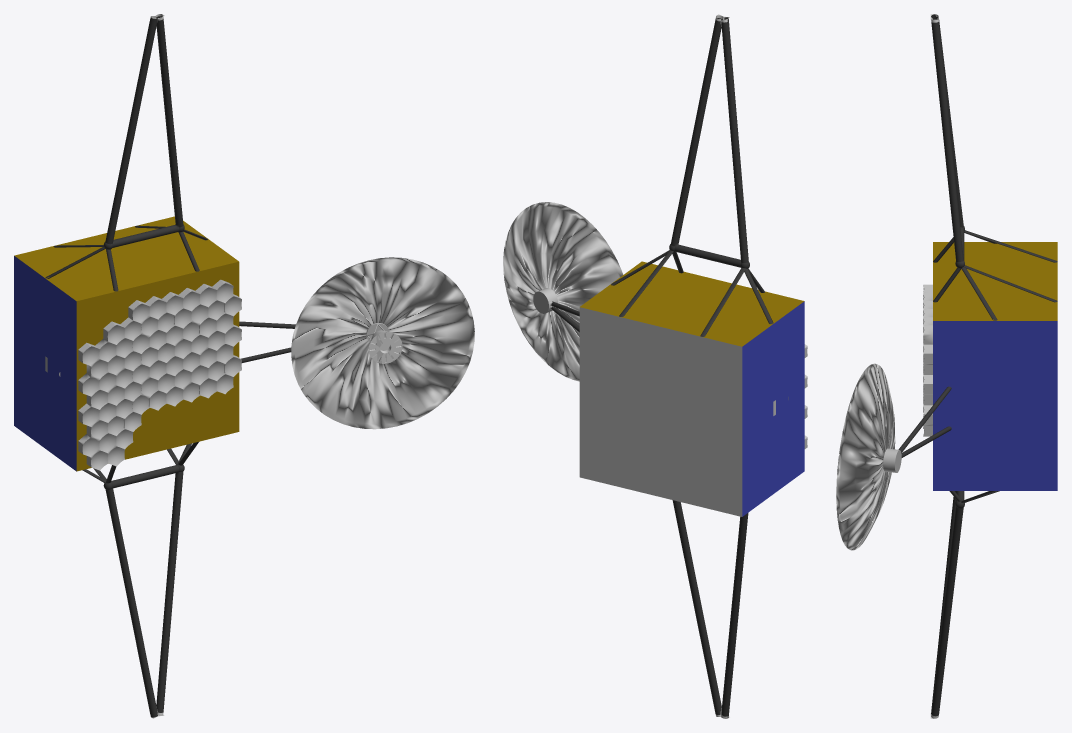
The model's file is Satelite_Cuerpo.obj.
The picture shows the model from 3 angles, left to right: view 1: azimuth 30°, elevation 25°; view 2: azimuth 150°, elevation 25°; view 3: azimuth 270°, elevation 25°; orthographic projection.
Visible parts, largest first — view 1: Satelite_Cuerpo.001; view 2: Satelite_Cuerpo.001; view 3: Satelite_Cuerpo.001.
Boxes of the visible parts, bbox=[...] form: Satelite_Cuerpo.001: bbox=[14, 14, 474, 718]; Satelite_Cuerpo.001: bbox=[503, 14, 807, 718]; Satelite_Cuerpo.001: bbox=[836, 14, 1057, 718].
Size of the model in its own units: 10.43 by 19.91 by 5.71.
